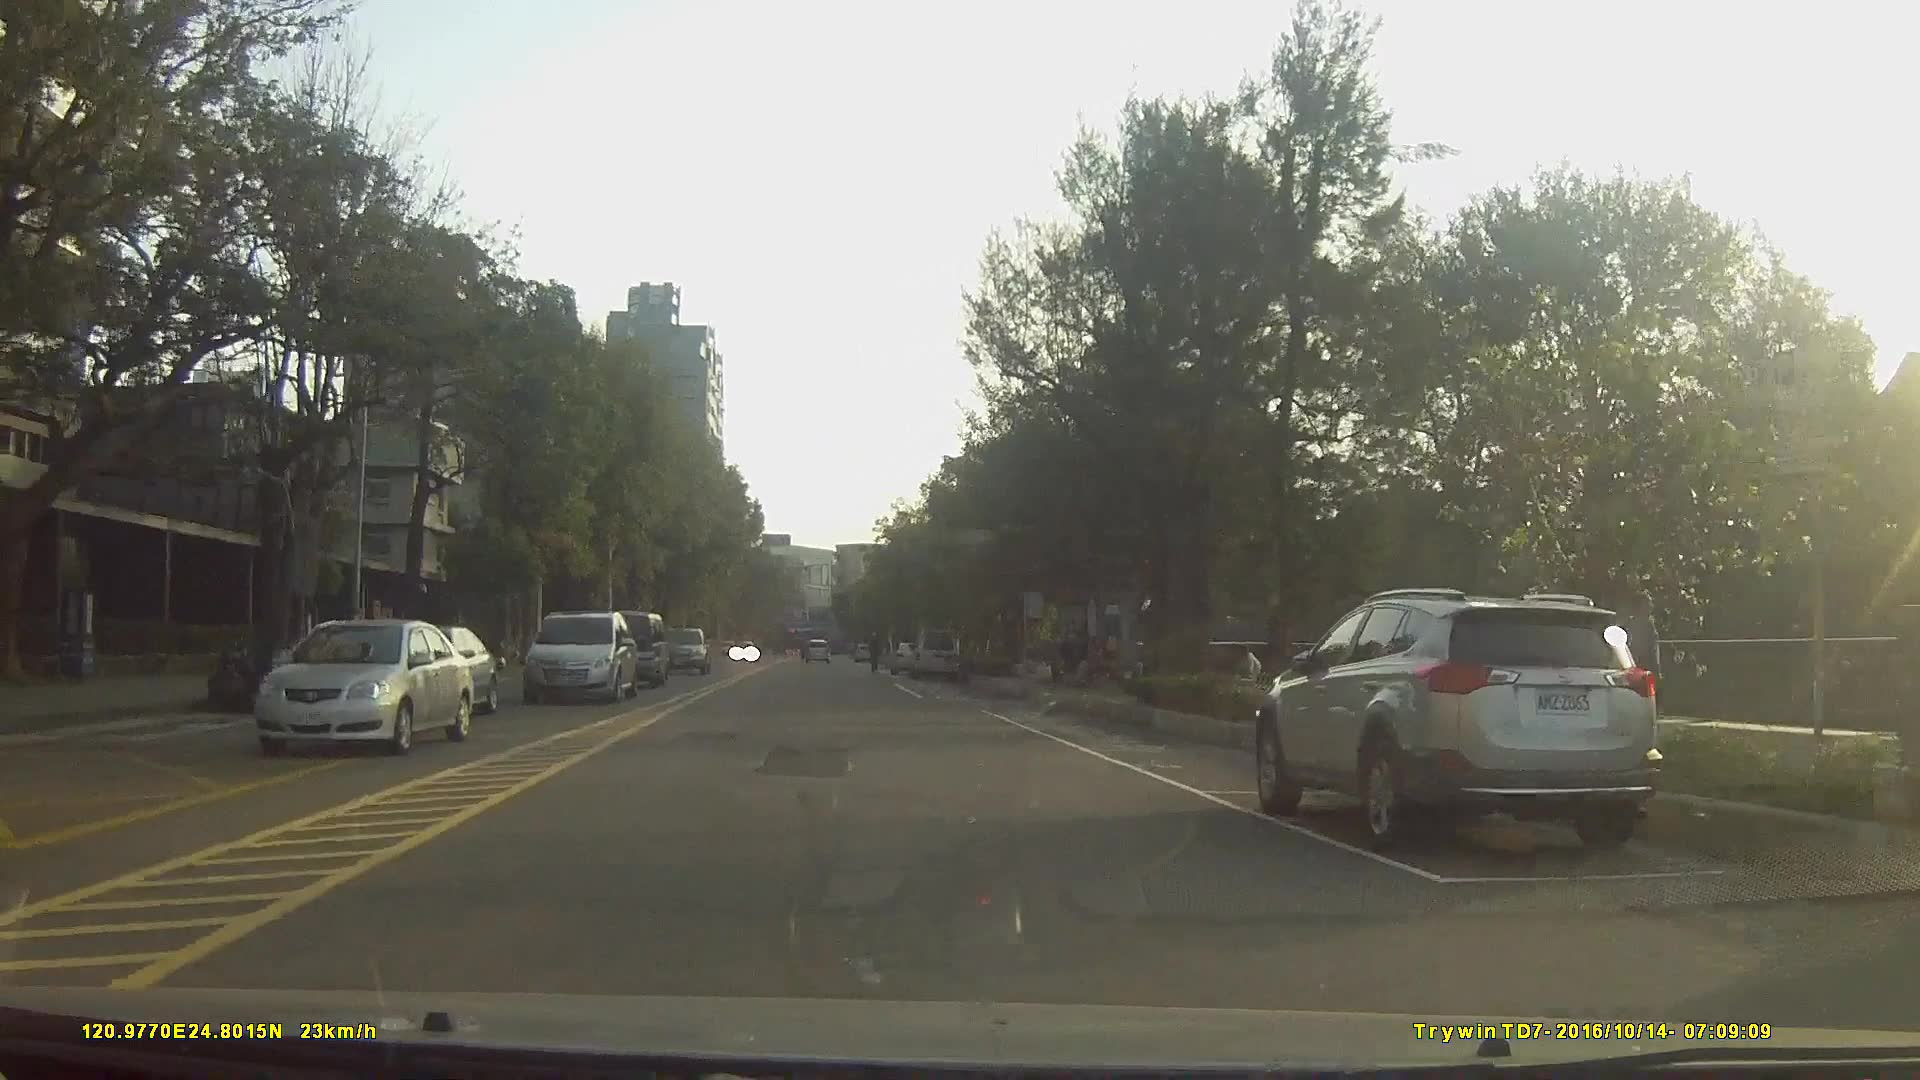vehicle: (1255, 587, 1662, 852), (251, 618, 472, 756), (524, 611, 637, 704), (909, 624, 957, 682), (659, 625, 711, 673), (889, 640, 924, 675), (802, 636, 829, 663)
